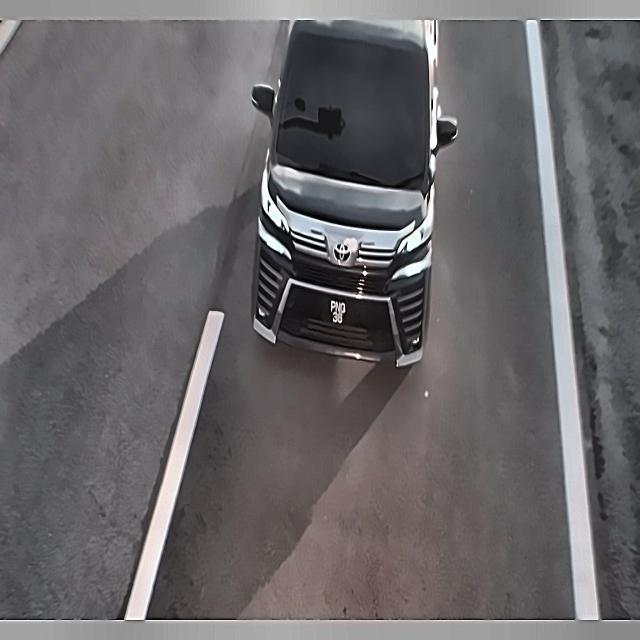car: (314, 283, 362, 340)
